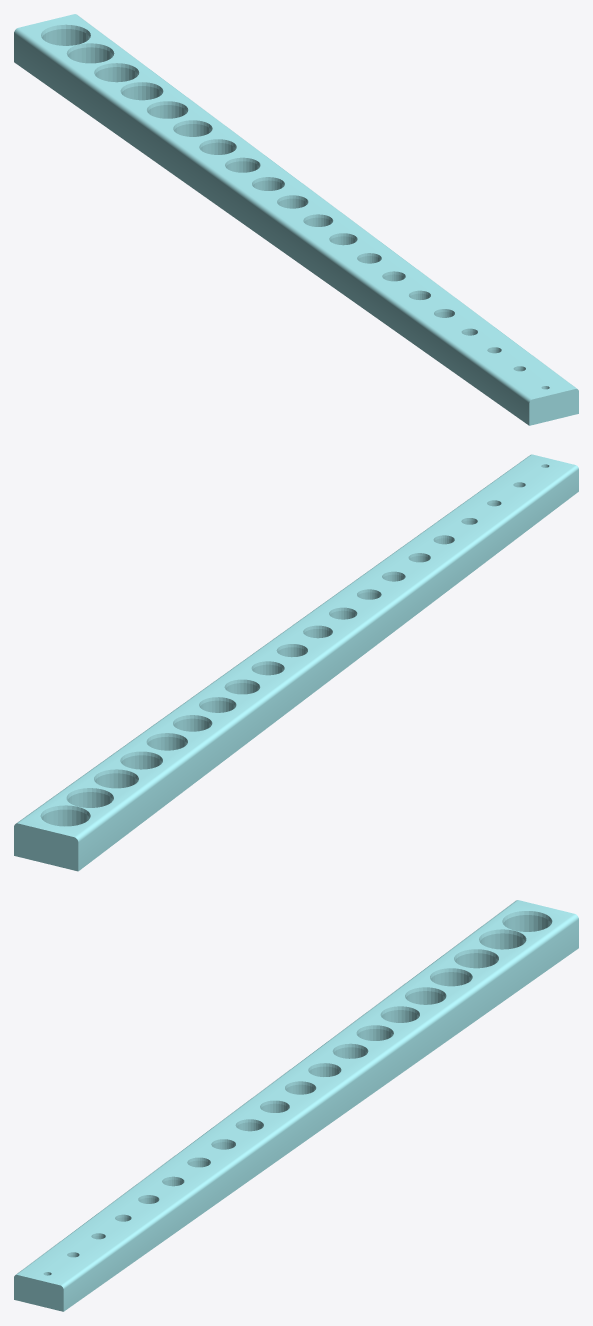
Rendered from BluePlatform.fbx.
The picture shows the model from 3 angles, top to bottom: view 1: azimuth 30°, elevation 25°; view 2: azimuth 150°, elevation 25°; view 3: azimuth 330°, elevation 25°; orthographic projection.
Parts seen in each view (by area): view 1: Cube.005; view 2: Cube.005; view 3: Cube.005.
Part boxes in pixels (x1,y1,x2,y2): Cube.005: [14, 14, 578, 425]; Cube.005: [14, 454, 578, 871]; Cube.005: [14, 900, 578, 1311].
Size of the model in its own units: 368 by 182 by 5035.
Materials: 1 (1 with a texture image).
